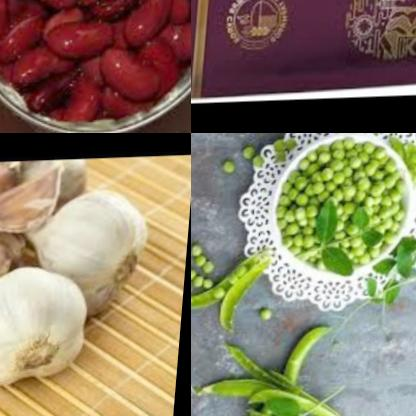fasol: (0, 0, 191, 133)
garlic: (27, 186, 151, 316), (0, 265, 102, 385), (0, 160, 69, 240), (0, 209, 21, 282)
peas: (279, 136, 416, 266), (195, 333, 376, 416), (191, 250, 278, 331), (191, 245, 231, 298), (217, 147, 284, 173), (257, 300, 289, 328)
